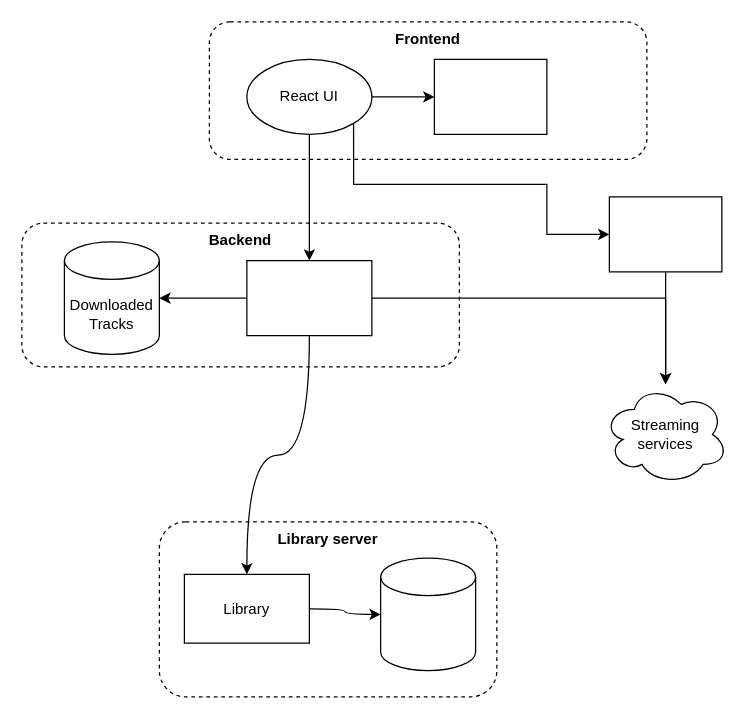
Some shapes in this 750 by 719 pixel diagram are drawn without their labels. The centre of each missing label's shape, as x and y in pixels:
"Decoder" belongs at pixel 490 96.
"Explorer" belongs at pixel 309 297.
"Gateway" belongs at pixel 665 234.
"MySQL or SQLite" belongs at pixel 427 614.
